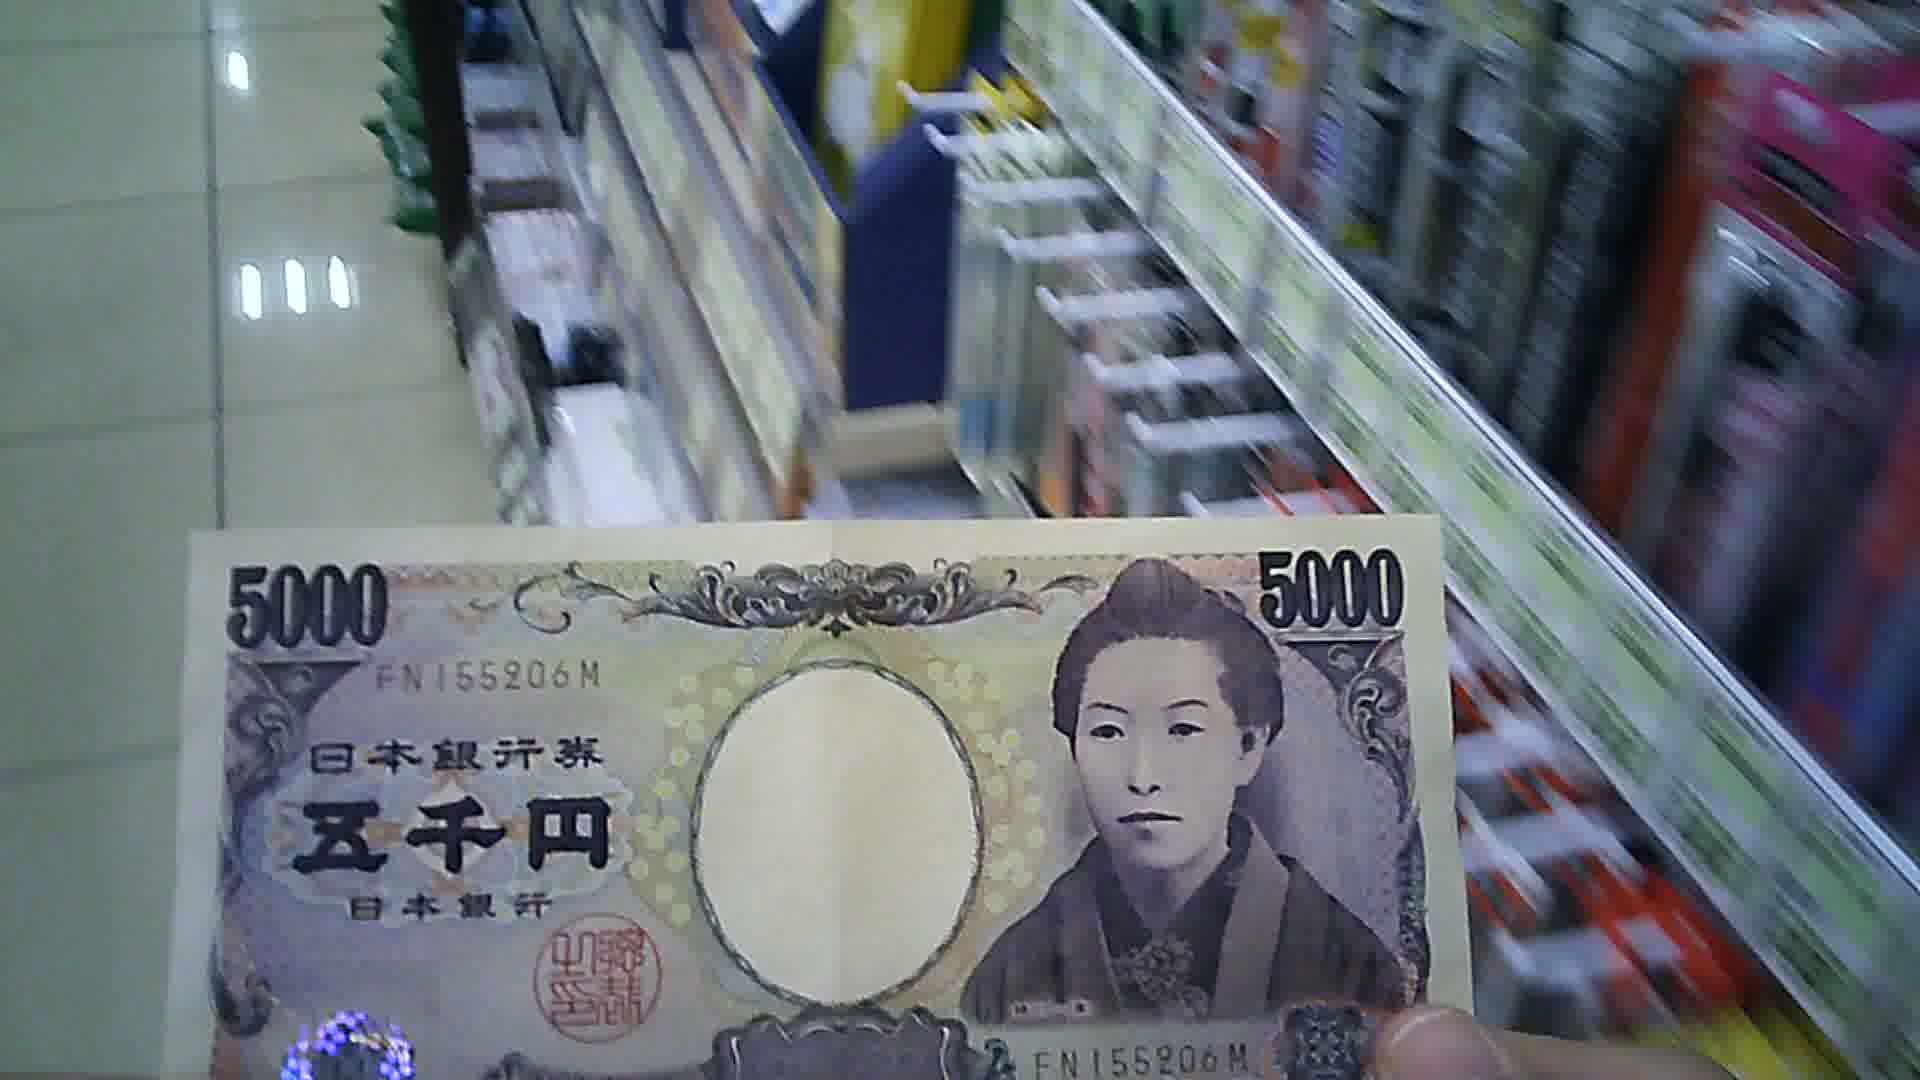5,000 Yen: (165, 483, 1455, 1079)
